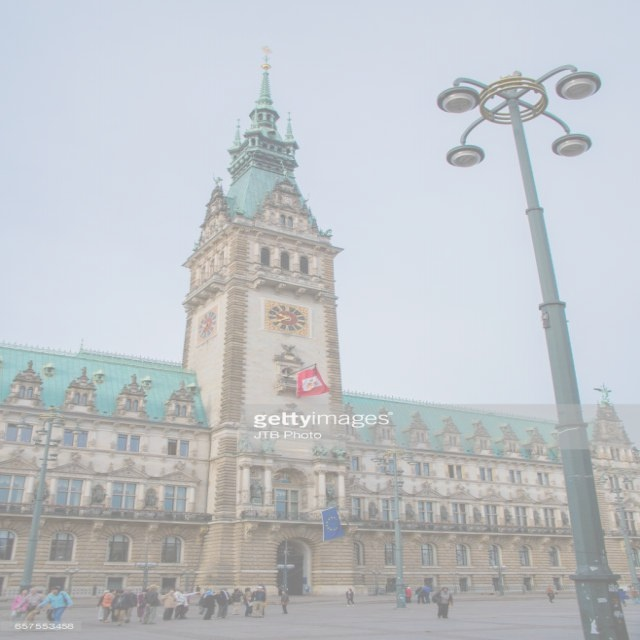pessoa: (33, 586, 75, 632), (16, 587, 44, 632), (6, 587, 32, 629), (40, 586, 64, 626), (140, 584, 162, 625), (180, 588, 206, 620), (430, 586, 454, 620), (247, 584, 267, 619), (99, 588, 118, 624), (110, 588, 128, 626), (122, 586, 140, 624), (214, 586, 234, 620), (158, 588, 178, 621), (169, 587, 186, 620), (201, 590, 218, 622), (95, 590, 111, 622), (136, 588, 150, 623), (228, 588, 244, 616), (252, 586, 266, 618), (209, 586, 222, 616), (196, 588, 210, 615), (244, 586, 254, 618), (279, 590, 291, 614), (616, 588, 630, 608), (344, 587, 357, 607), (544, 584, 556, 604), (414, 586, 427, 604), (421, 584, 432, 604), (302, 583, 314, 598), (404, 586, 414, 604), (629, 586, 639, 604), (88, 584, 100, 598), (183, 589, 190, 612), (372, 586, 384, 596), (194, 584, 202, 597), (276, 582, 289, 590), (256, 582, 266, 587), (626, 582, 632, 590), (146, 585, 151, 593), (249, 588, 254, 596), (402, 585, 408, 589)
